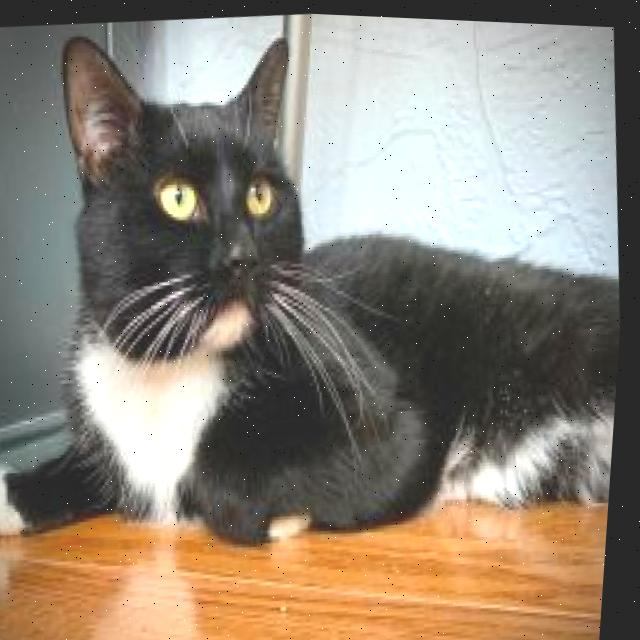Tuxedo: (0, 0, 640, 579)
